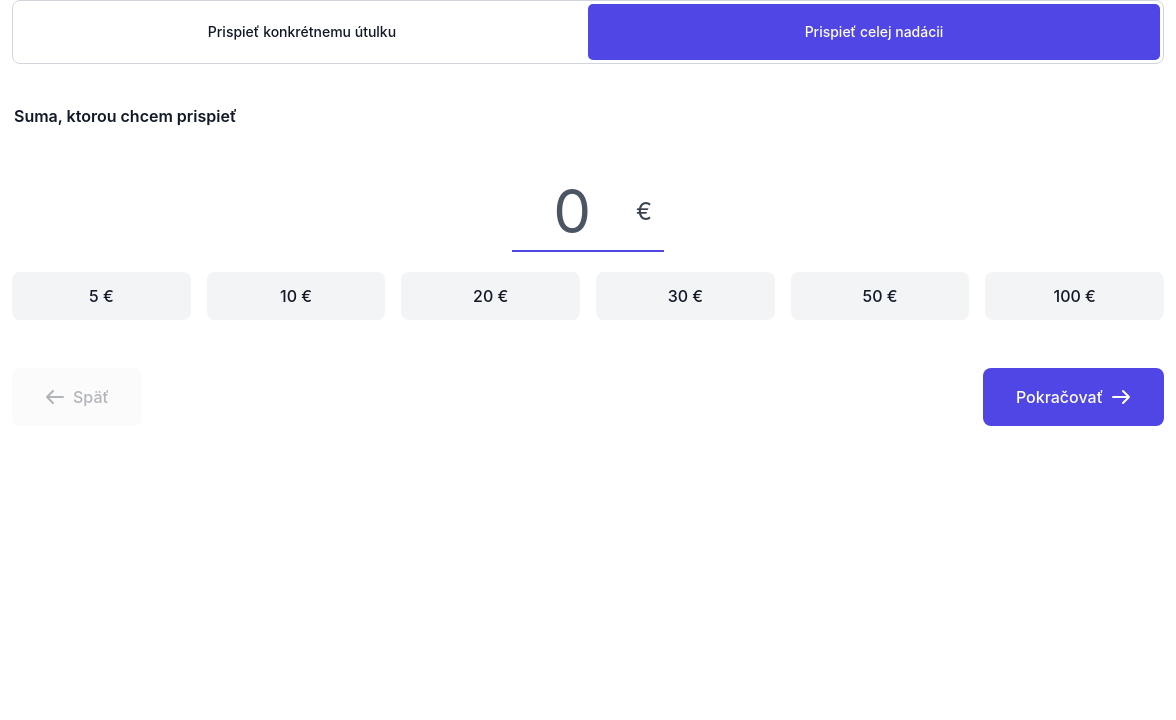
Test: SelectionForm › explains an empty shelter list and disables the empty control
What coordinates should you click on to do the following:
click the radio button labelled "Prispieť konkrétnemu útulku"
I would click on:
 (302, 32)
Its box is [208, 23, 396, 40].
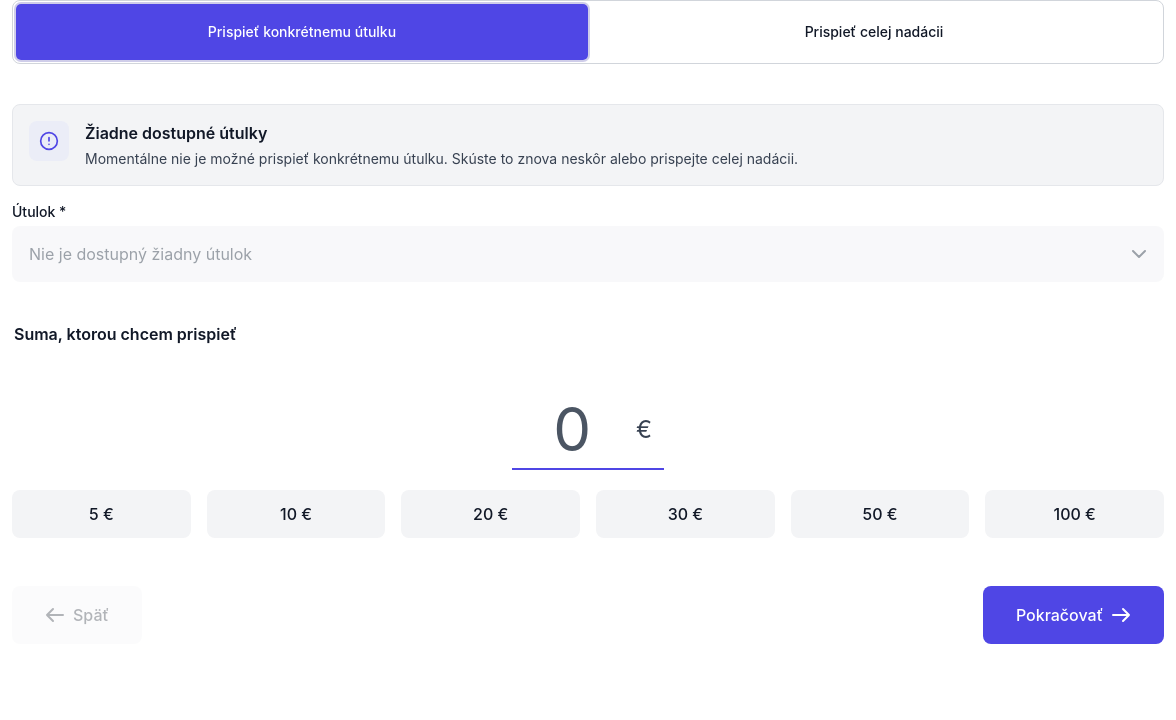
Expected: the message "Žiadne dostupné útulky" is shown, [12, 104, 1164, 186]
Expected: the dropdown labelled "útulok" is disabled, [12, 226, 1164, 282]
